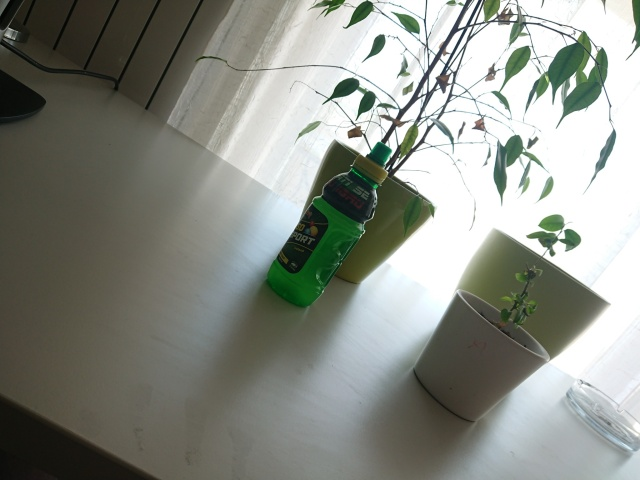Vindi Iso Sport Lemon-Grapefruit 500mL: (263, 139, 394, 310)
